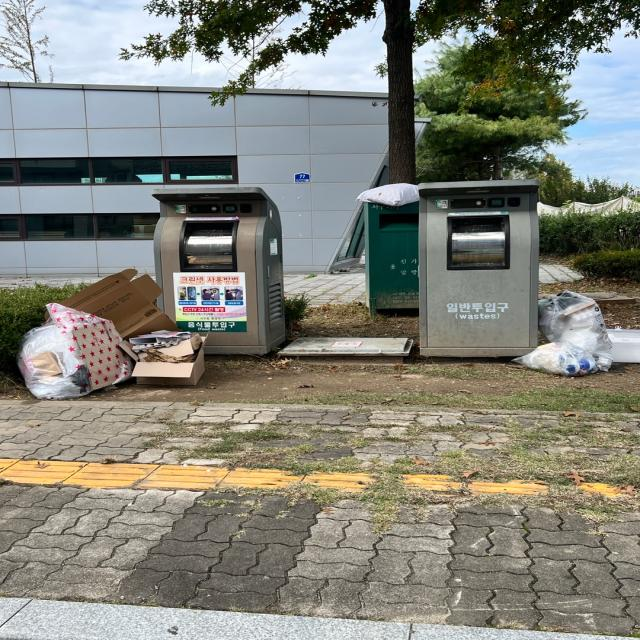CleanNet: (419, 178, 544, 362), (150, 185, 280, 351)
General Waste: (16, 264, 201, 406), (538, 278, 614, 370)
Large Waste Items: (60, 271, 173, 336)
